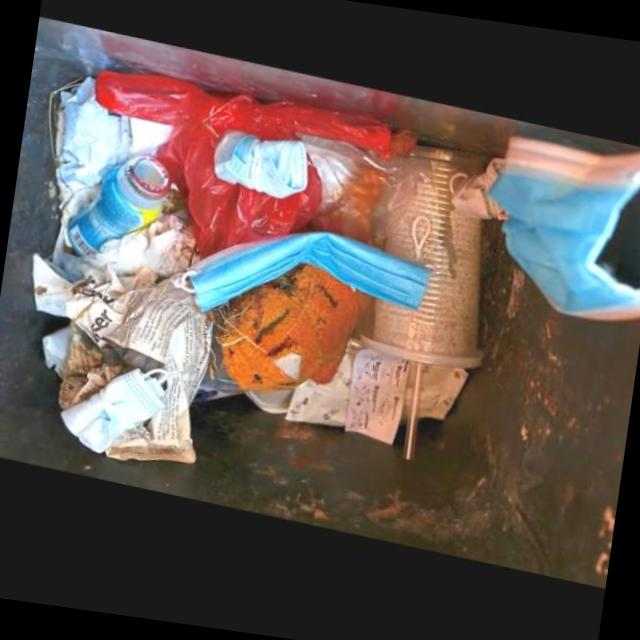giay: (31, 263, 212, 469)
hop_nhua: (361, 149, 481, 370), (66, 162, 169, 264)
khau_trang: (486, 138, 640, 321), (170, 218, 431, 320), (60, 375, 165, 461), (211, 139, 305, 205)
ong_hut_nhua: (402, 366, 422, 464)
tui_ni_long: (91, 79, 389, 263)
